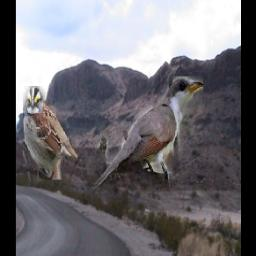Cuckoo: (89, 77, 203, 193)
Sparrow: (23, 87, 95, 181)
